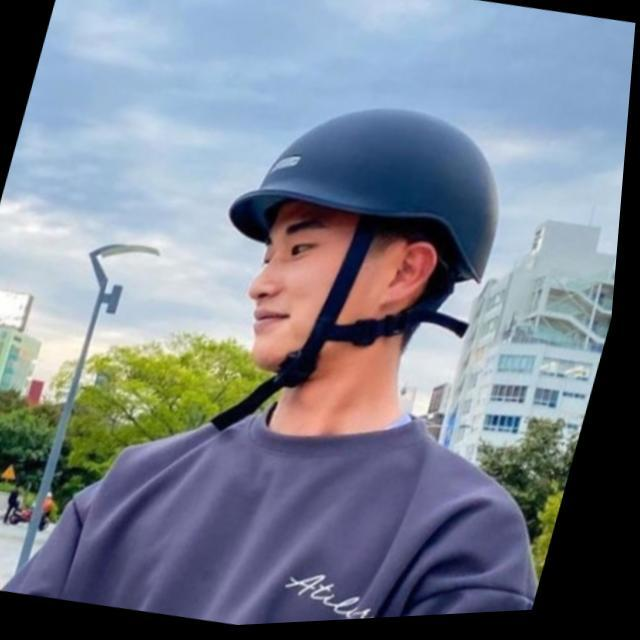Helmet: (222, 101, 503, 384)
